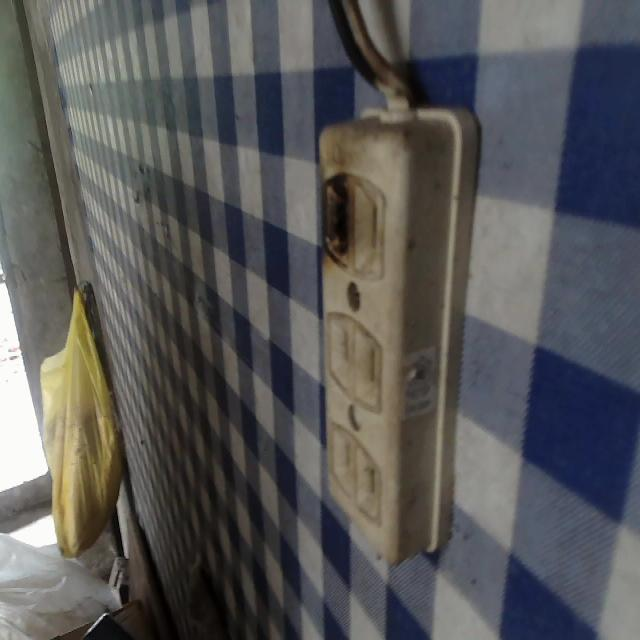-: (317, 169, 357, 264)
